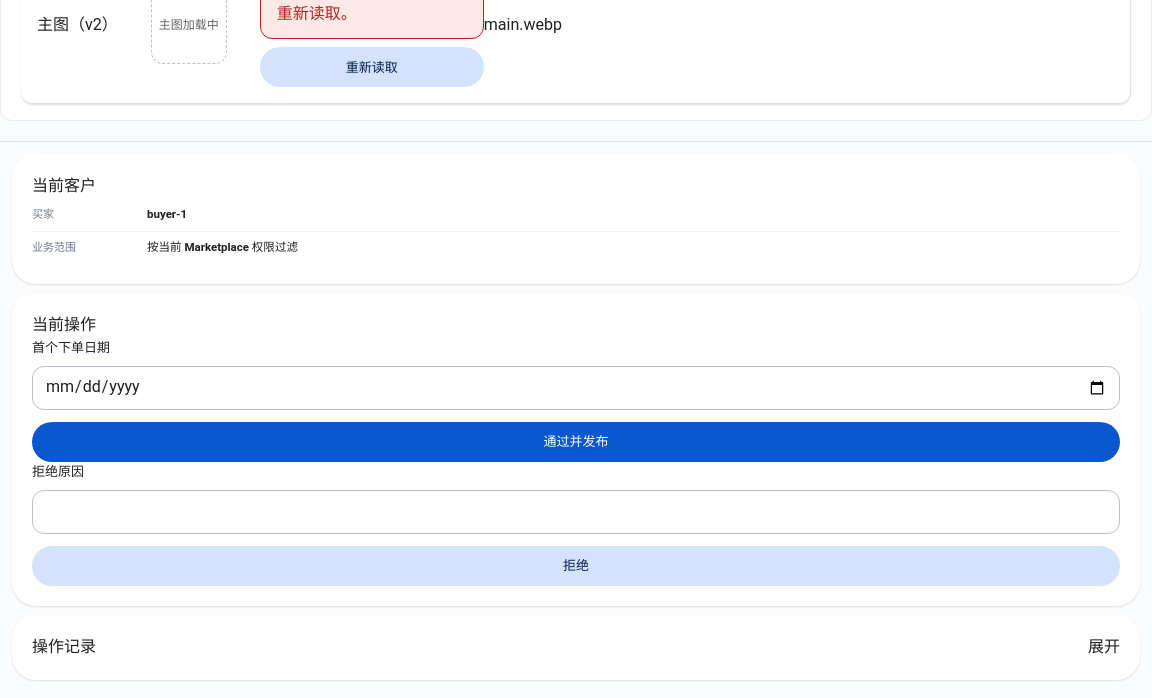
Scenario: demand review panel › never re-reads the completed demand facts after publishing
(page scrolled)
Type "2026-08-11" into the date field labelled "首个下单日期" at (576, 388), box [32,366,1120,410]
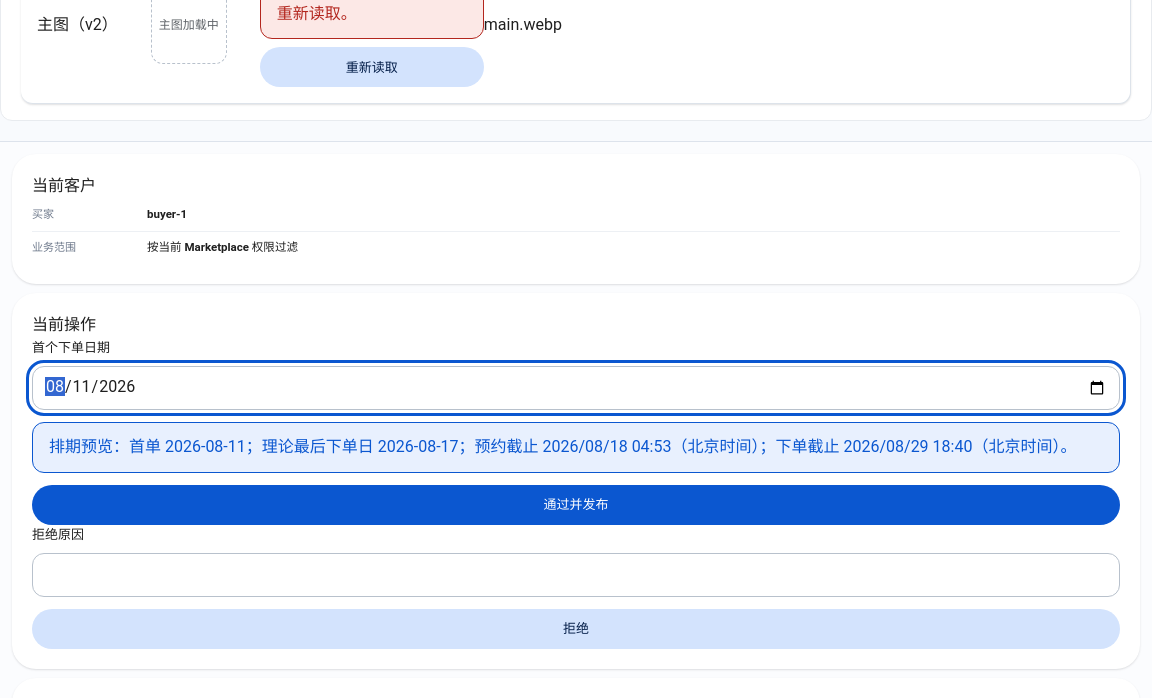
Click the button "通过并发布" at (576, 504), box [32,484,1120,524]
(page scrolled)
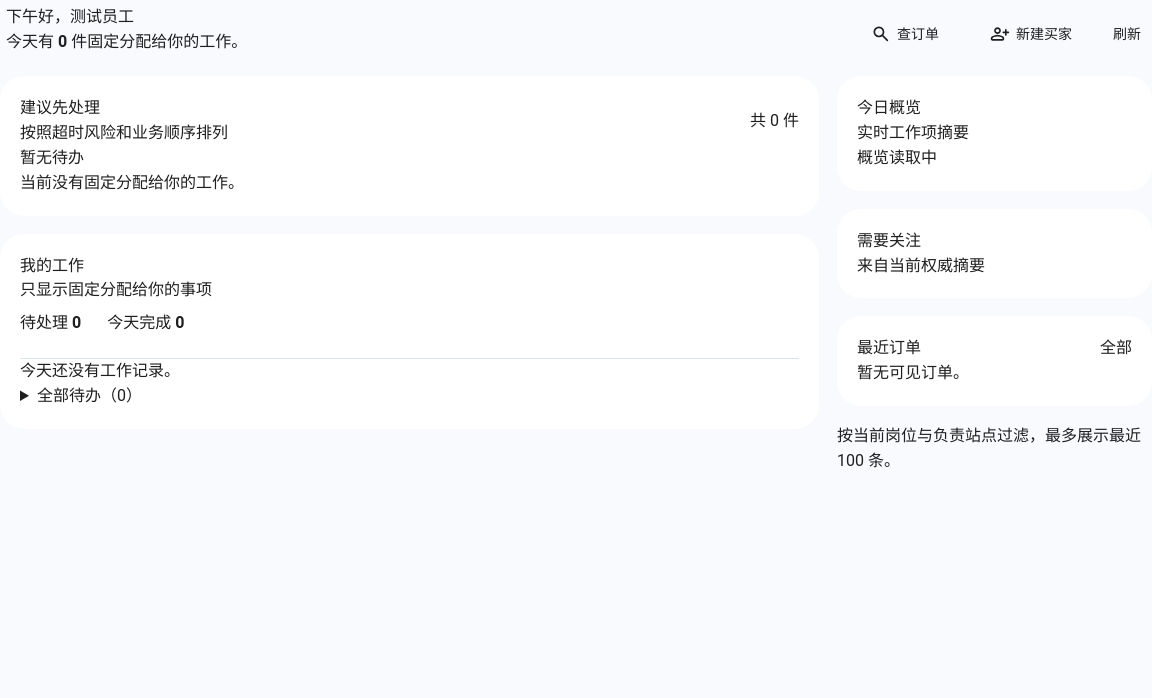
Check: the heading "暂无待办" is shown, box [20,148,84,167]
